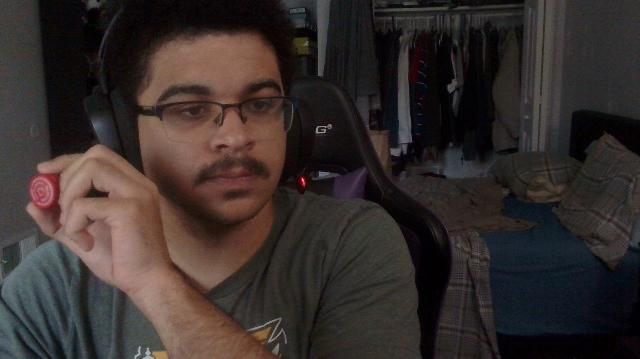cap: (29, 173, 59, 211)
